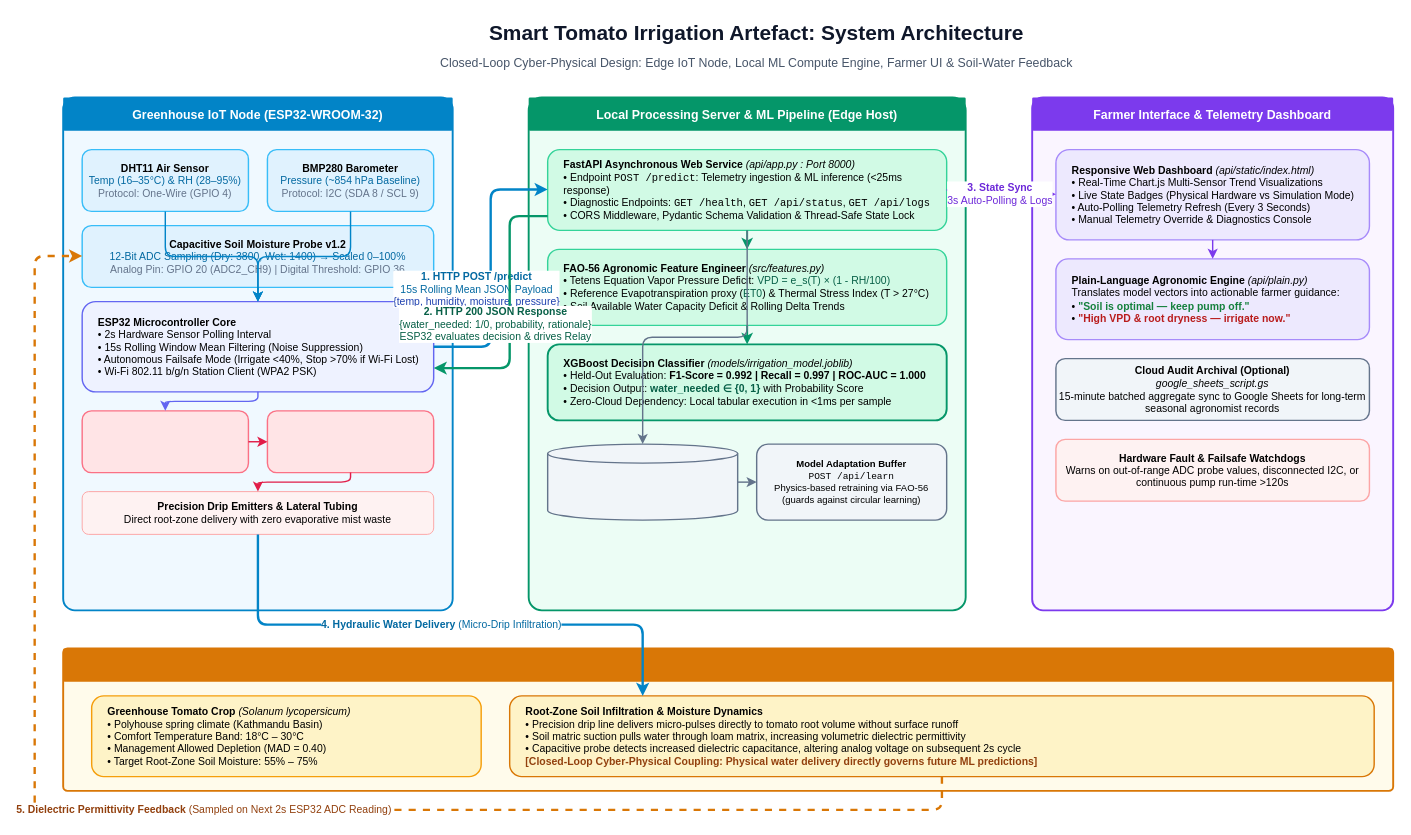
The diagram is 1411 pixels wide and 835 high, and some of its shapes have lost their labels. Here are the shapes that lost their labels. From the top down, the centre of each, then its label:
At point 165,441: "5V Relay Module Optically Isolated Driver Control: GPIO 1 (Active LOW)".
At point 350,441: "12V Submersible Pump DC Water Motor (~1.2 L/min) Switched 12V DC Rail".
At point 642,481: "CSV Audit Log data/live/irrigation_log.csv Append-only telemetry audit trail".
At point 728,664: "Tomato Crop Rhizosphere & Physical Soil-Water Feedback Loop".
